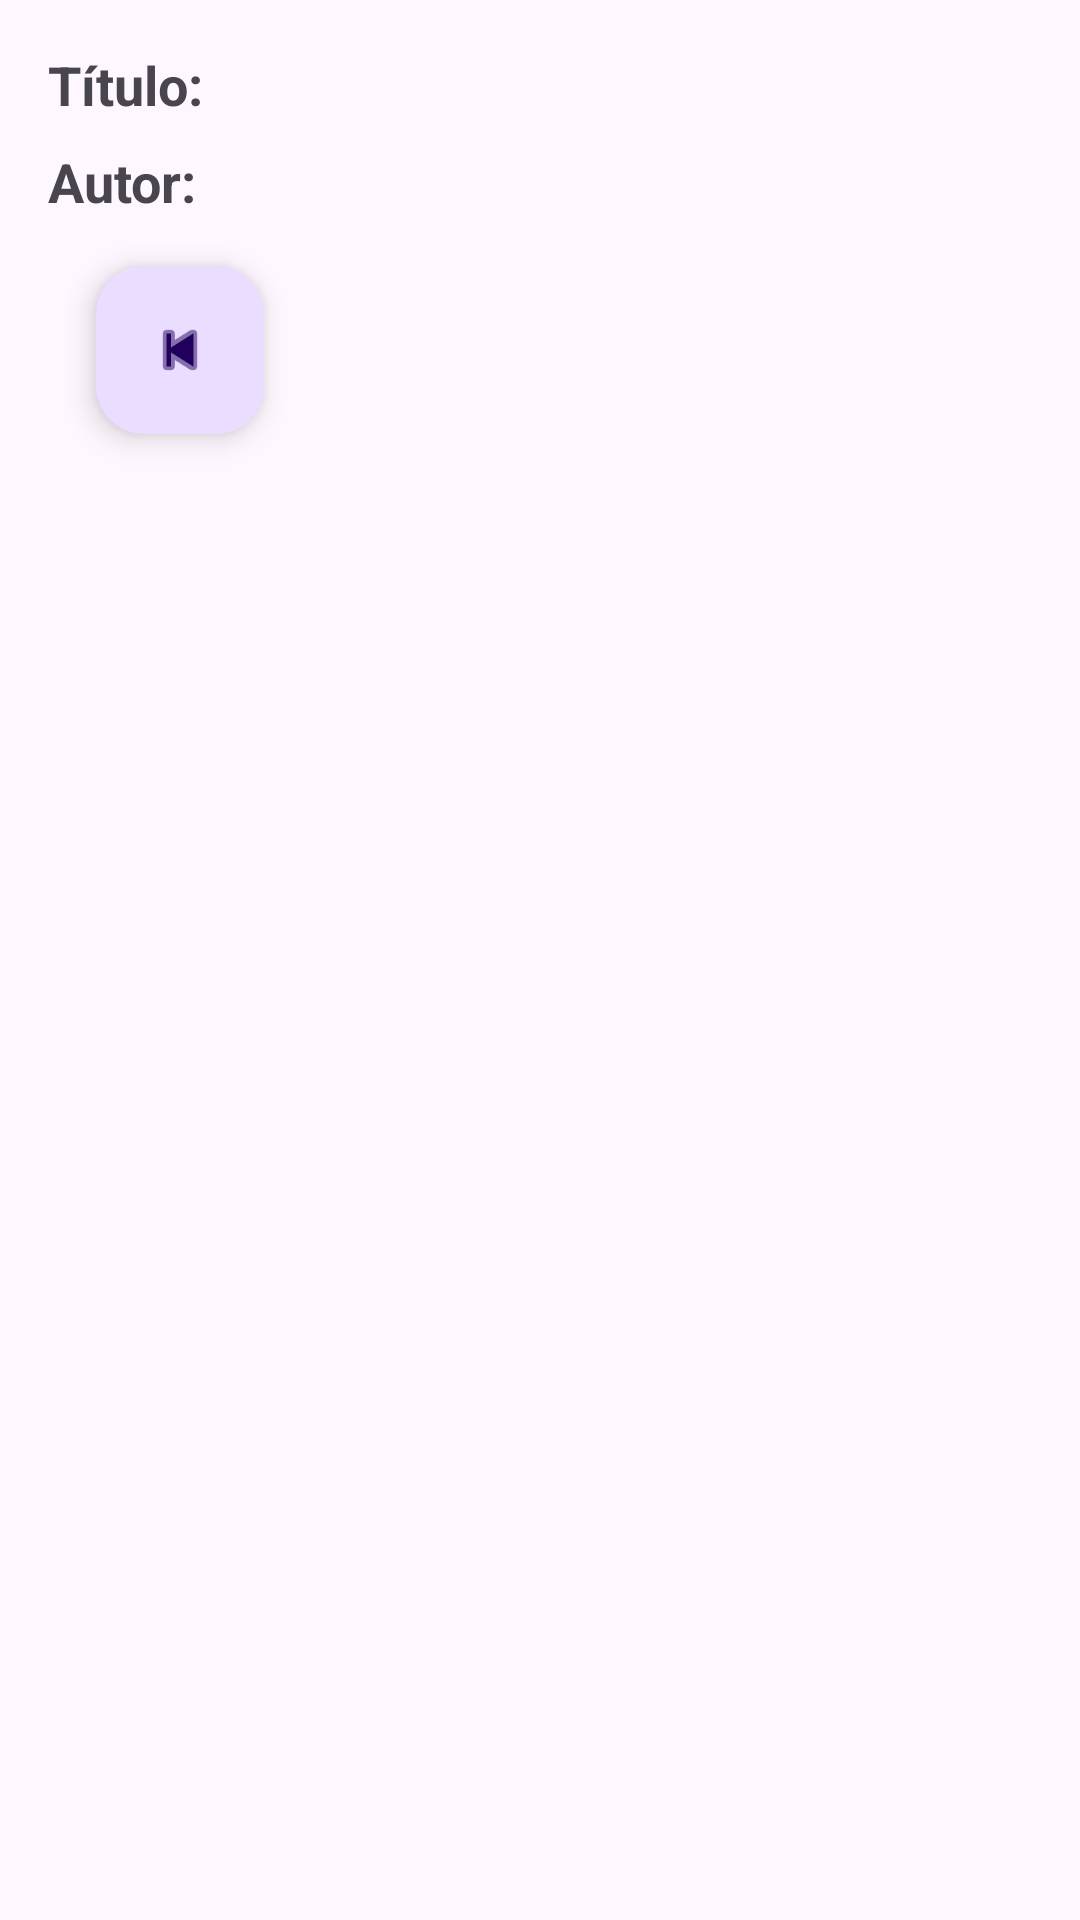

Icons on this 1080px×1920px Android screen, each with the point to tap as point (x, y):
Voltar: point (180, 350)
